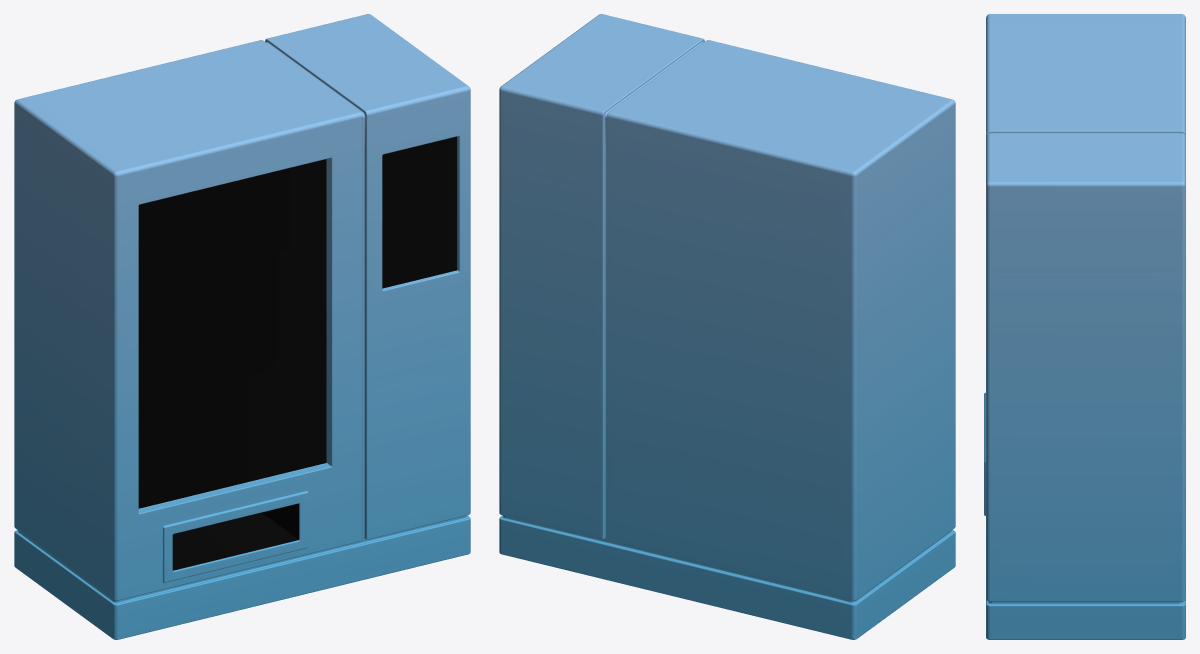
File: VendingMachine.fbx
3 views of the same model, side by side, from view 1: azimuth 30°, elevation 25°; view 2: azimuth 150°, elevation 25°; view 3: azimuth 270°, elevation 25° (orthographic). The views are drawn at different scales.
Parts seen in each view (by area): view 1: VendingMachine; view 2: VendingMachine; view 3: VendingMachine.
Boxes of the visible parts, x1,y1,x2,y2 form: VendingMachine: (14, 14, 470, 639); VendingMachine: (499, 14, 955, 639); VendingMachine: (984, 14, 1185, 639).
Bounding box in the file's own units: 200 × 250 × 100.
1 material, 1 textured.
